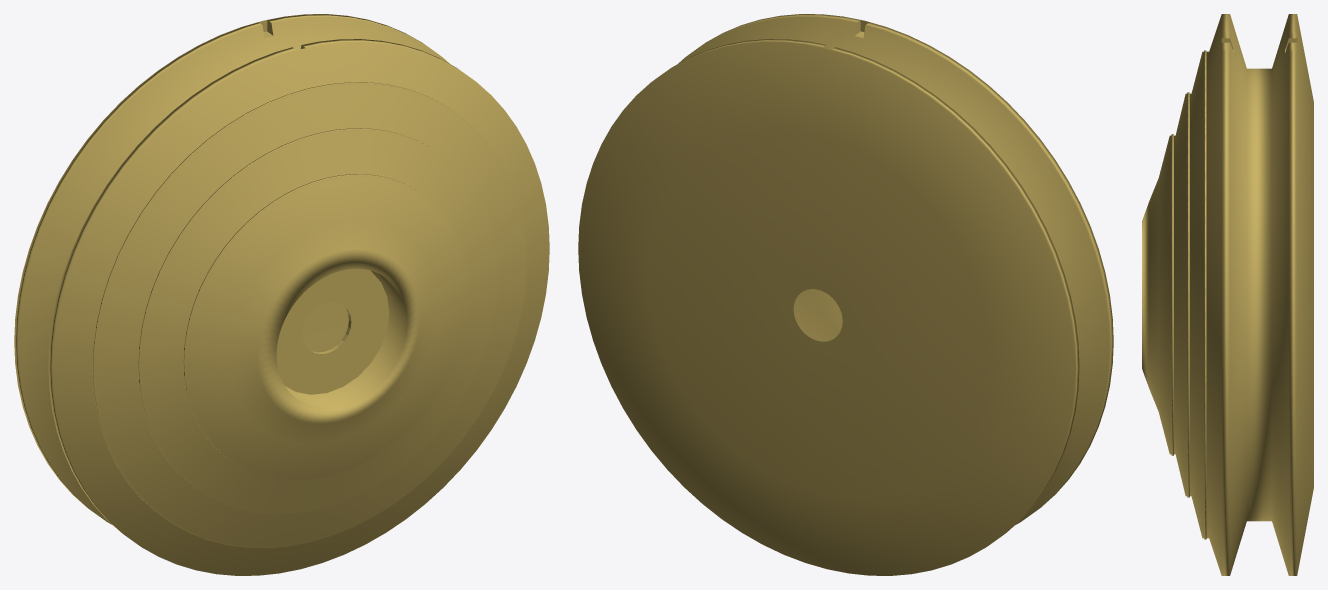
File: crank-pulley.glb
The picture shows the model from 3 angles, left to right: view 1: azimuth 30°, elevation 25°; view 2: azimuth 150°, elevation 25°; view 3: azimuth 270°, elevation 25°; orthographic projection. The views are drawn at different scales.
Visible parts, largest first — view 1: crank-pulley:yellowZinc; view 2: crank-pulley:yellowZinc; view 3: crank-pulley:yellowZinc.
Part boxes in pixels (x1=…): crank-pulley:yellowZinc: x1=14, y1=14, x2=549, y2=575; crank-pulley:yellowZinc: x1=578, y1=14, x2=1113, y2=575; crank-pulley:yellowZinc: x1=1142, y1=14, x2=1313, y2=575.
Bounding box in the file's own units: 134 × 134 × 41.
